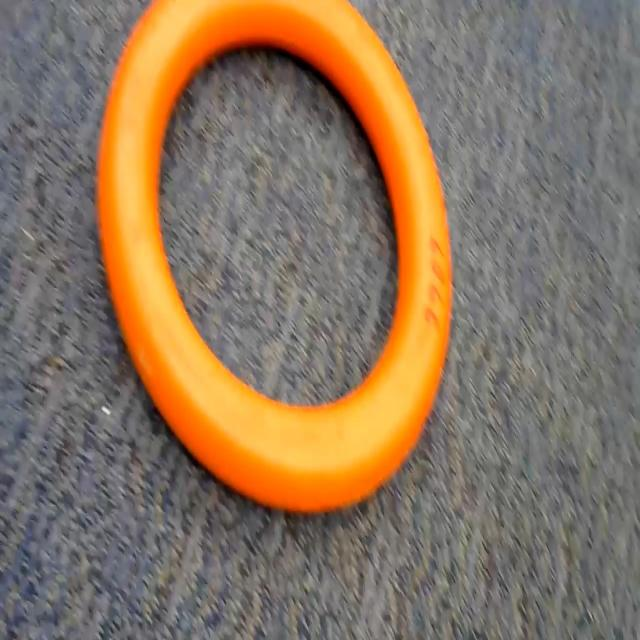note: (81, 0, 455, 529)
